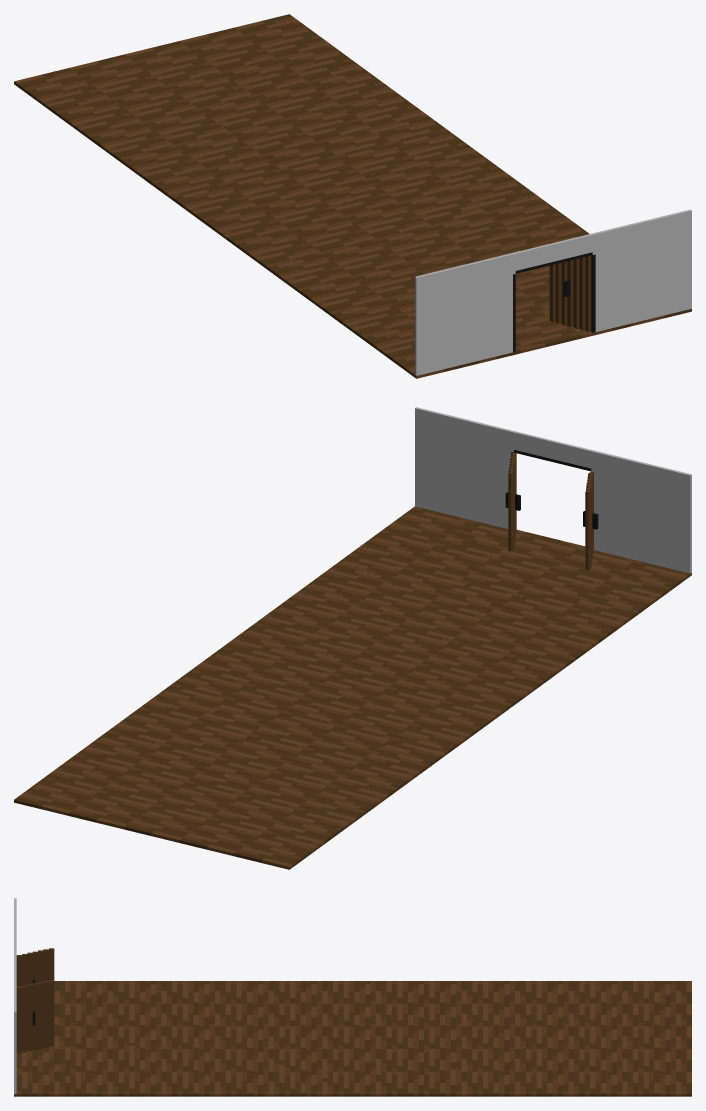
File: FinCouloir(2) 1.obj
The picture shows the model from 3 angles, top to bottom: view 1: azimuth 30°, elevation 25°; view 2: azimuth 150°, elevation 25°; view 3: azimuth 270°, elevation 25°; orthographic projection. The views are drawn at different scales.
Size of the model in its own units: 10 by 3.5 by 25.3.
Materials: 1 (1 with a texture image).
